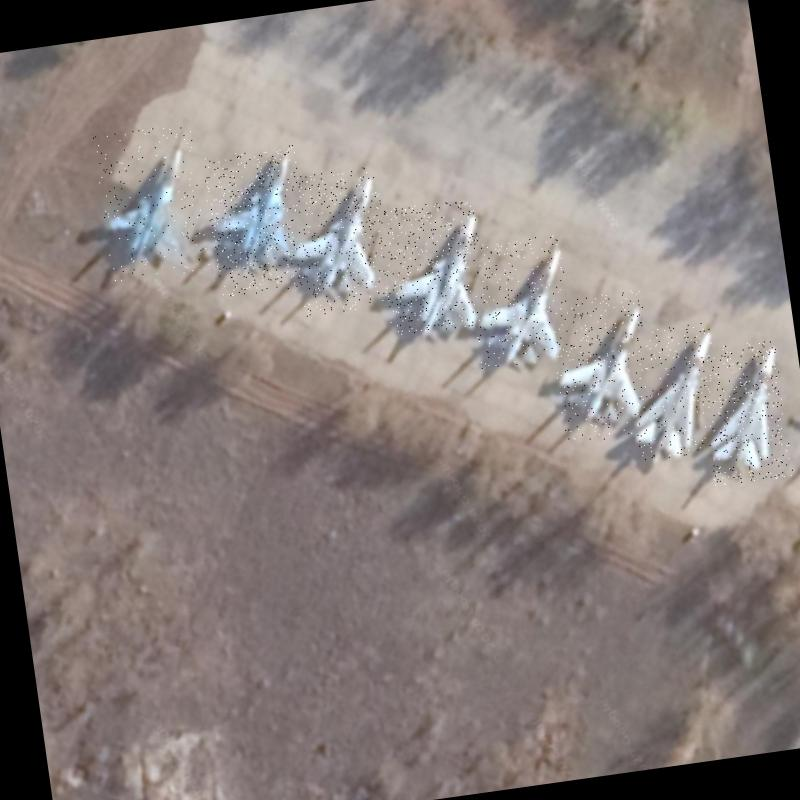A1: (543, 288, 661, 446), (465, 234, 576, 370)
A19: (91, 122, 210, 283), (200, 144, 313, 298), (284, 166, 395, 316), (374, 196, 490, 336)
A20: (694, 338, 794, 487), (623, 321, 729, 461)
